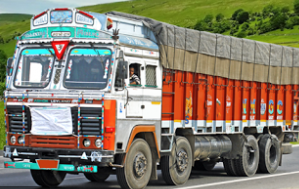truck: (2, 4, 299, 186)
